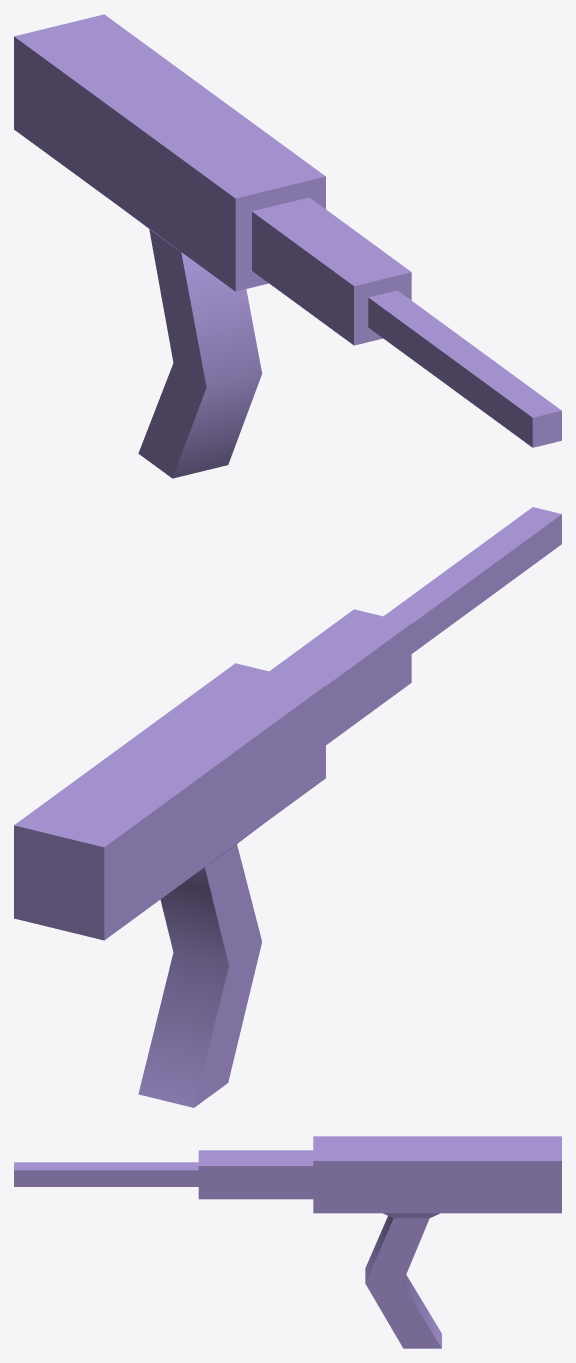
Rendered from Gun.fbx.
3 views of the same model, one above another, from view 1: azimuth 30°, elevation 25°; view 2: azimuth 150°, elevation 25°; view 3: azimuth 270°, elevation 25° (orthographic). The views are drawn at different scales.
Parts seen in each view (by area): view 1: pasted__GUN_Model; view 2: pasted__GUN_Model; view 3: pasted__GUN_Model.
Boxes of the visible parts, x1=… form: pasted__GUN_Model: x1=14, y1=14, x2=561, y2=478; pasted__GUN_Model: x1=14, y1=507, x2=561, y2=1107; pasted__GUN_Model: x1=14, y1=1136, x2=561, y2=1348.
Size of the model in its own units: 45.7 by 166 by 428.
